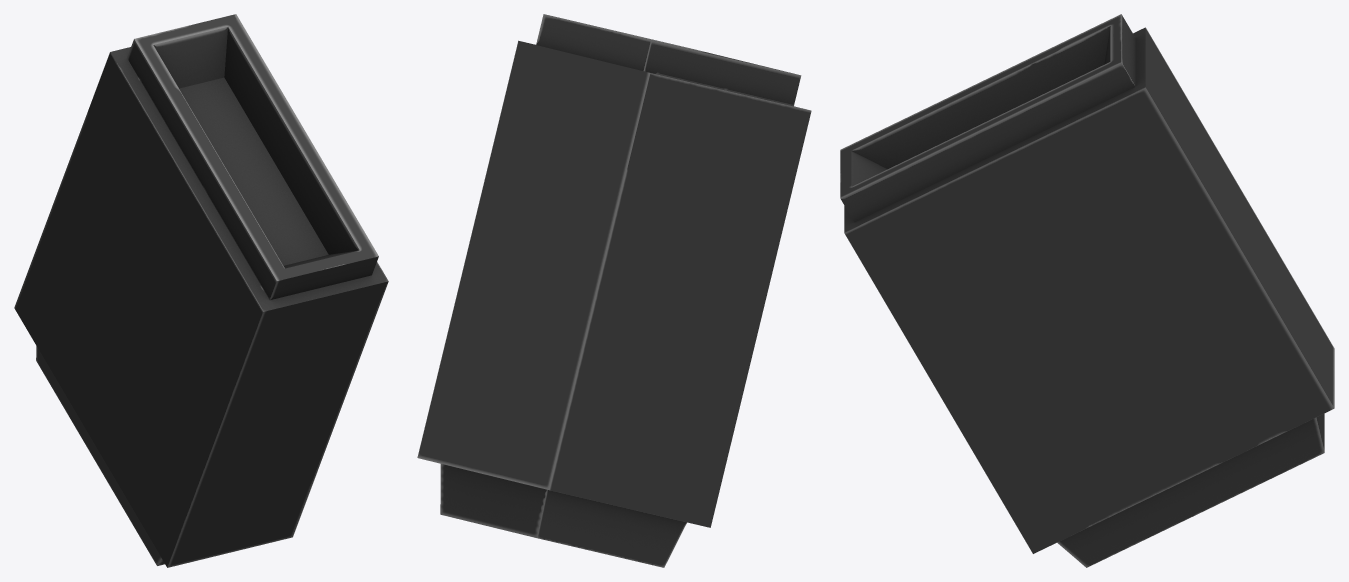
File: missile.glb
The picture shows the model from 3 angles, left to right: view 1: azimuth 30°, elevation 25°; view 2: azimuth 150°, elevation 25°; view 3: azimuth 270°, elevation 25°; orthographic projection. The views are drawn at different scales.
Parts seen in each view (by area): view 1: Cube.017; view 2: Cube.017; view 3: Cube.017.
Boxes of the visible parts, x1,y1,x2,y2 form: Cube.017: (14,14,388,567); Cube.017: (417,14,811,567); Cube.017: (840,14,1334,567).
Bounding box in the file's own units: 0.5876 × 2.31 × 2.04.
1 material, 1 textured.
